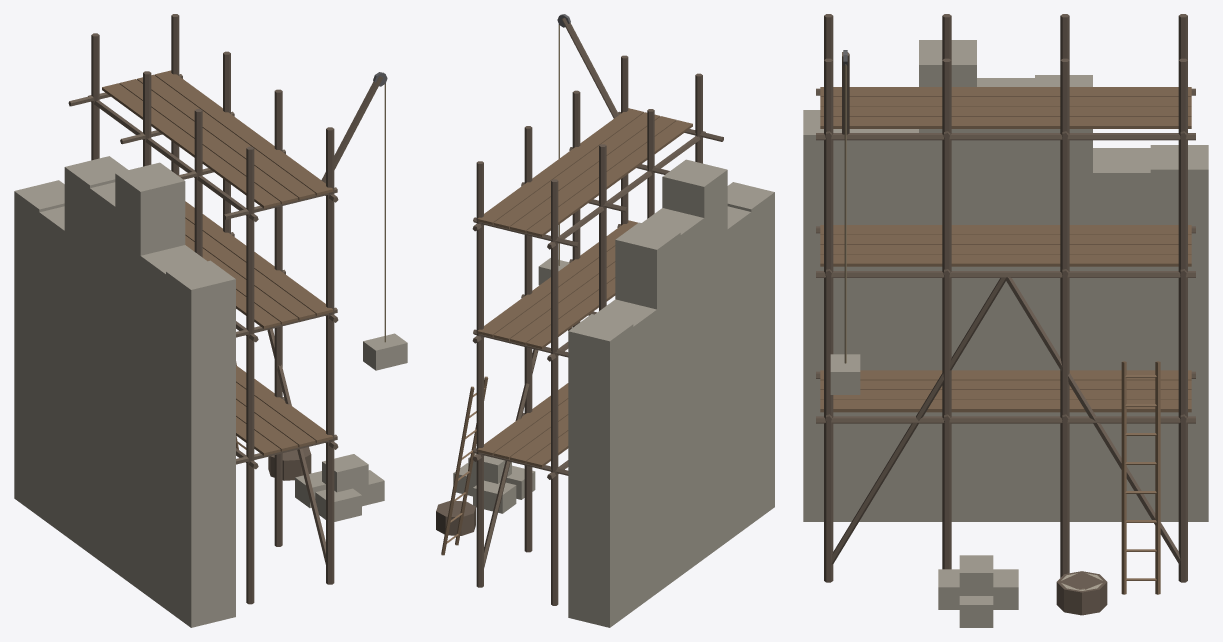
File: scaffold.glb
The picture shows the model from 3 angles, left to right: view 1: azimuth 30°, elevation 25°; view 2: azimuth 150°, elevation 25°; view 3: azimuth 270°, elevation 25°; orthographic projection. The views are drawn at different scales.
Parts seen in each view (by area): view 1: scaffold; view 2: scaffold; view 3: scaffold.
Part boxes in pixels (x1,y1,x2,y2): scaffold: (14,14,407,627); scaffold: (436,14,774,627); scaffold: (803,14,1208,627).
Size of the model in its own units: 4.1 by 7.35 by 4.8.
